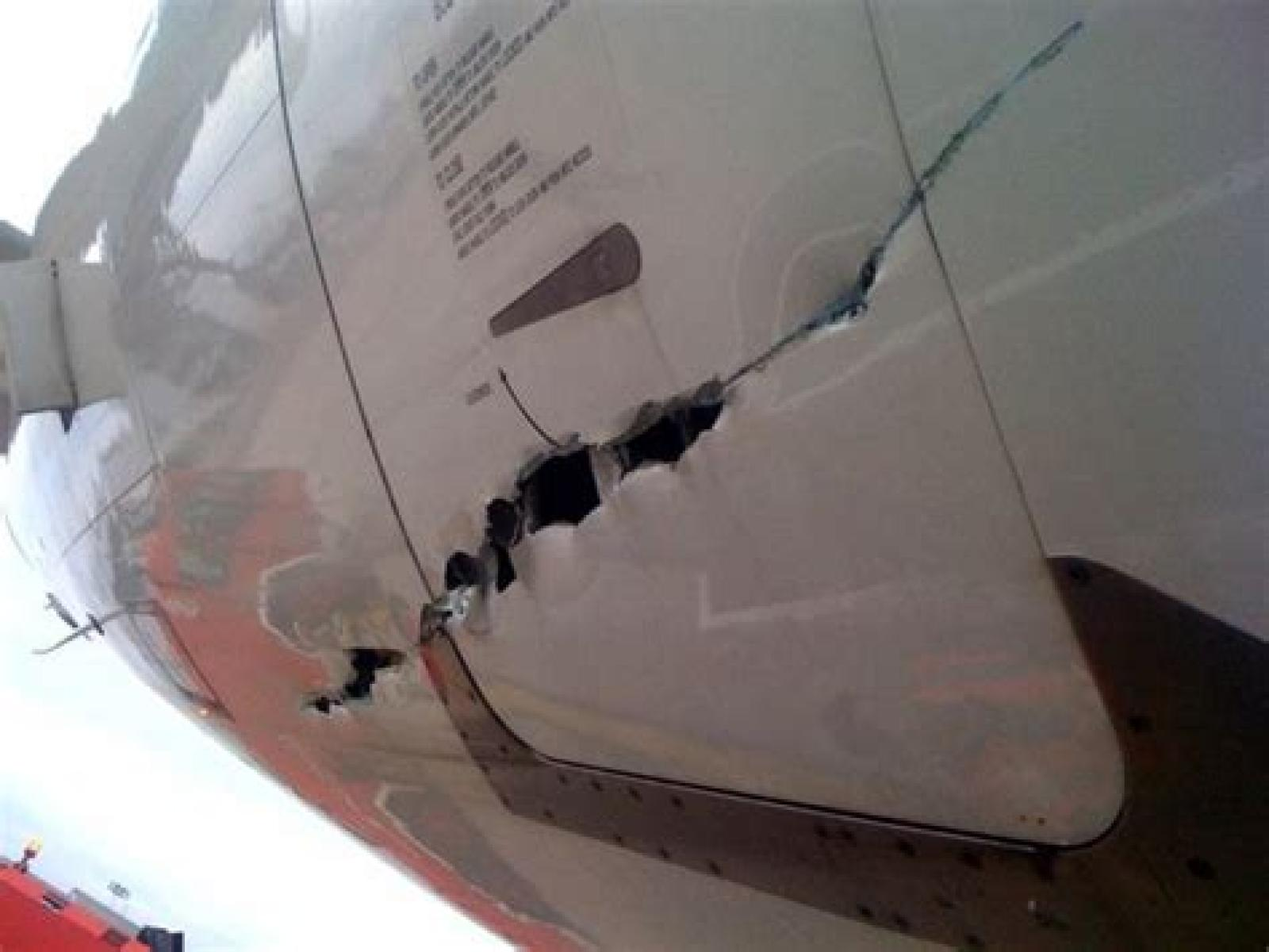Fuselage_damage: (517, 24, 1079, 491), (493, 383, 720, 542), (447, 499, 514, 601), (308, 649, 402, 711), (423, 585, 479, 641)
